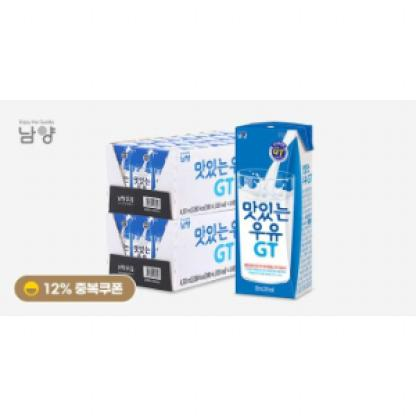tetra: (226, 107, 330, 311)
